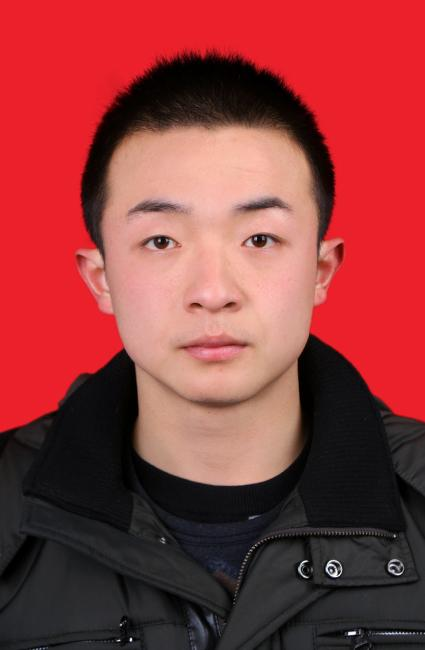unmask: (110, 140, 317, 384)
